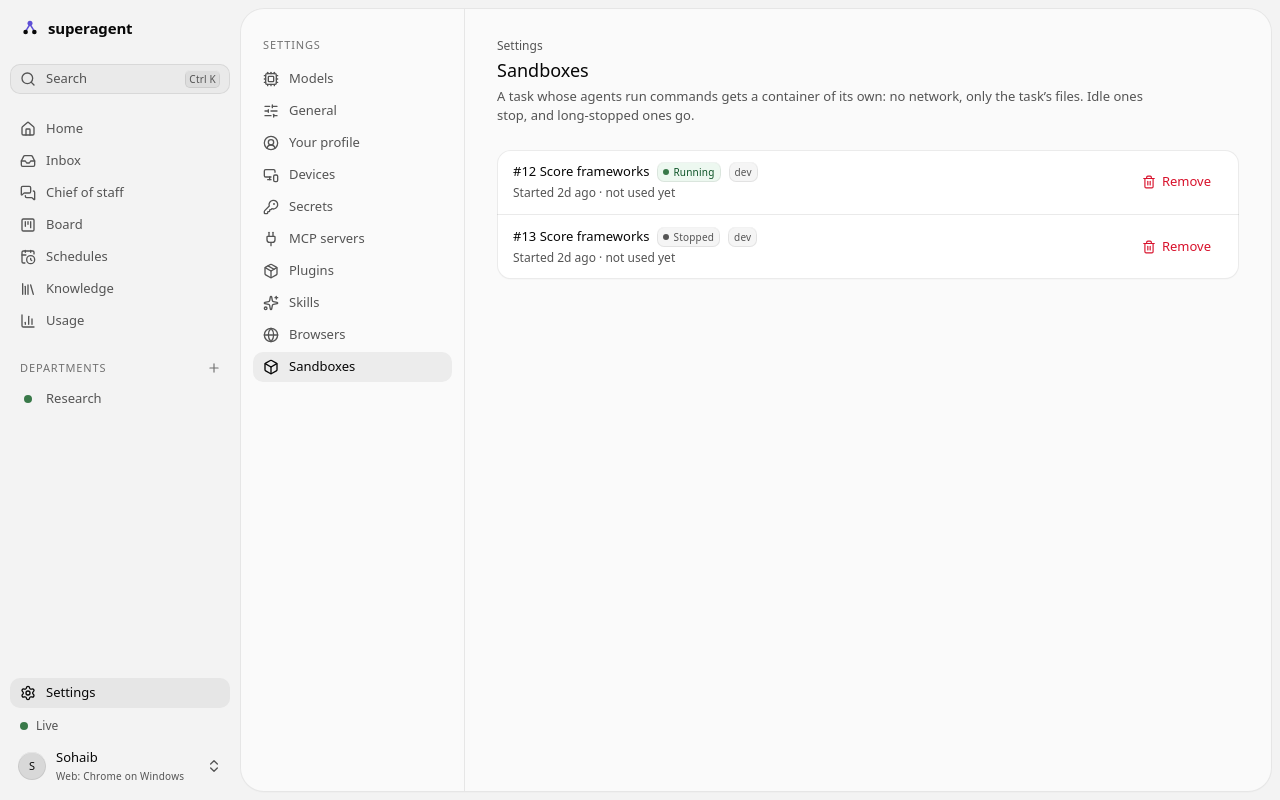
Scenario: sandboxes › lists them with their tasks, and removes one after asking
The image size is (1280, 800).
Expected: the list item that starts with "#12 Score frameworks" shows "Running", 673,165 -> 714,179
Expected: the list item that starts with "#12 Score frameworks" shows "not used yet", 605,184 -> 675,201
Click the button with aria-label "Remove the sandbox of #12 Score frameworks". click: click(1177, 182)
box: 1132,168 -> 1223,196
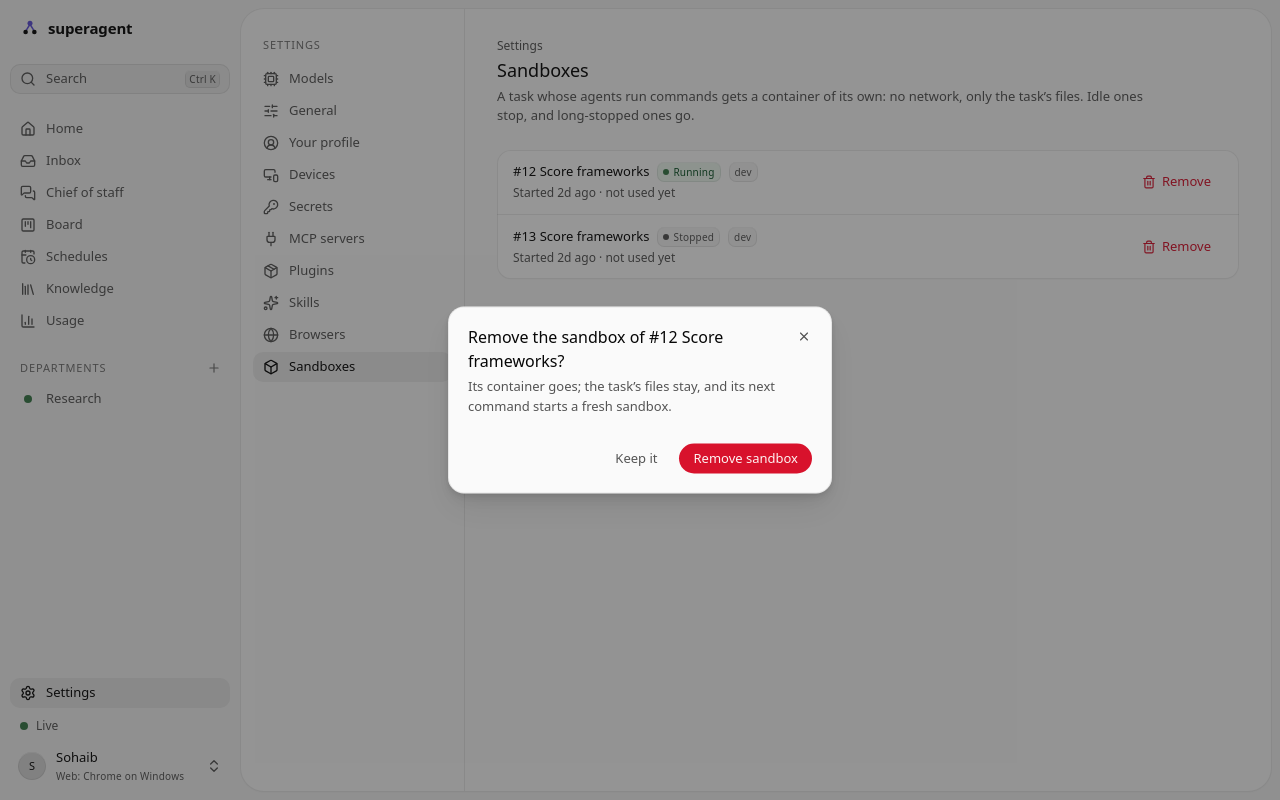
Click the button "Remove sandbox". click: click(746, 458)
box: 680,444 -> 812,474
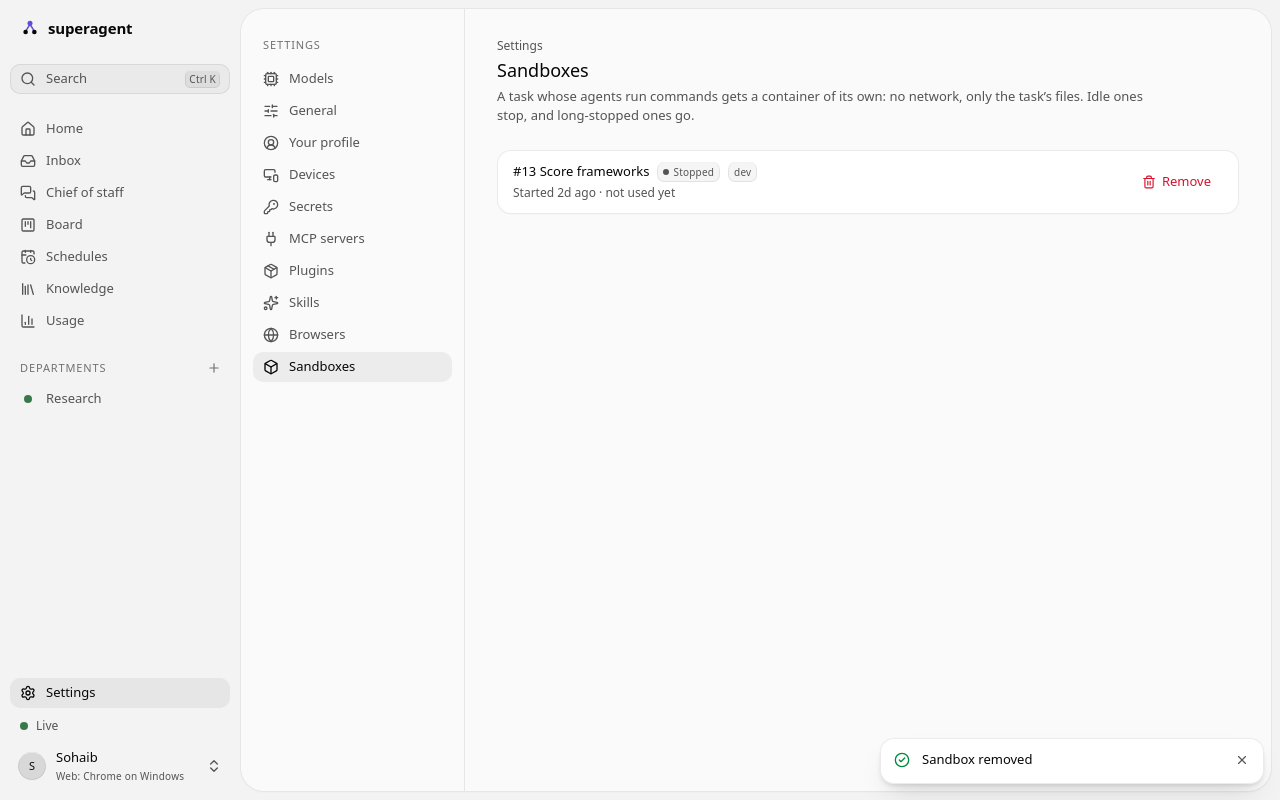
Result: the heading "Sandbox removed" is shown at 922,750 -> 1032,768
